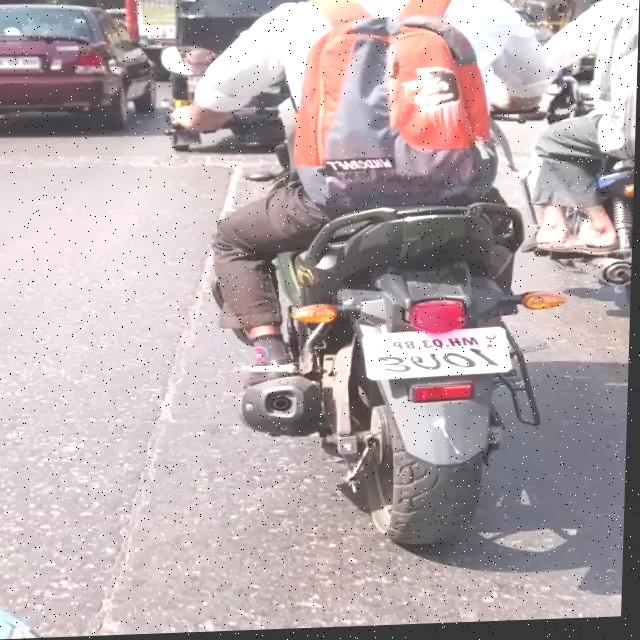plate: (363, 329, 517, 384), (0, 55, 42, 71)
